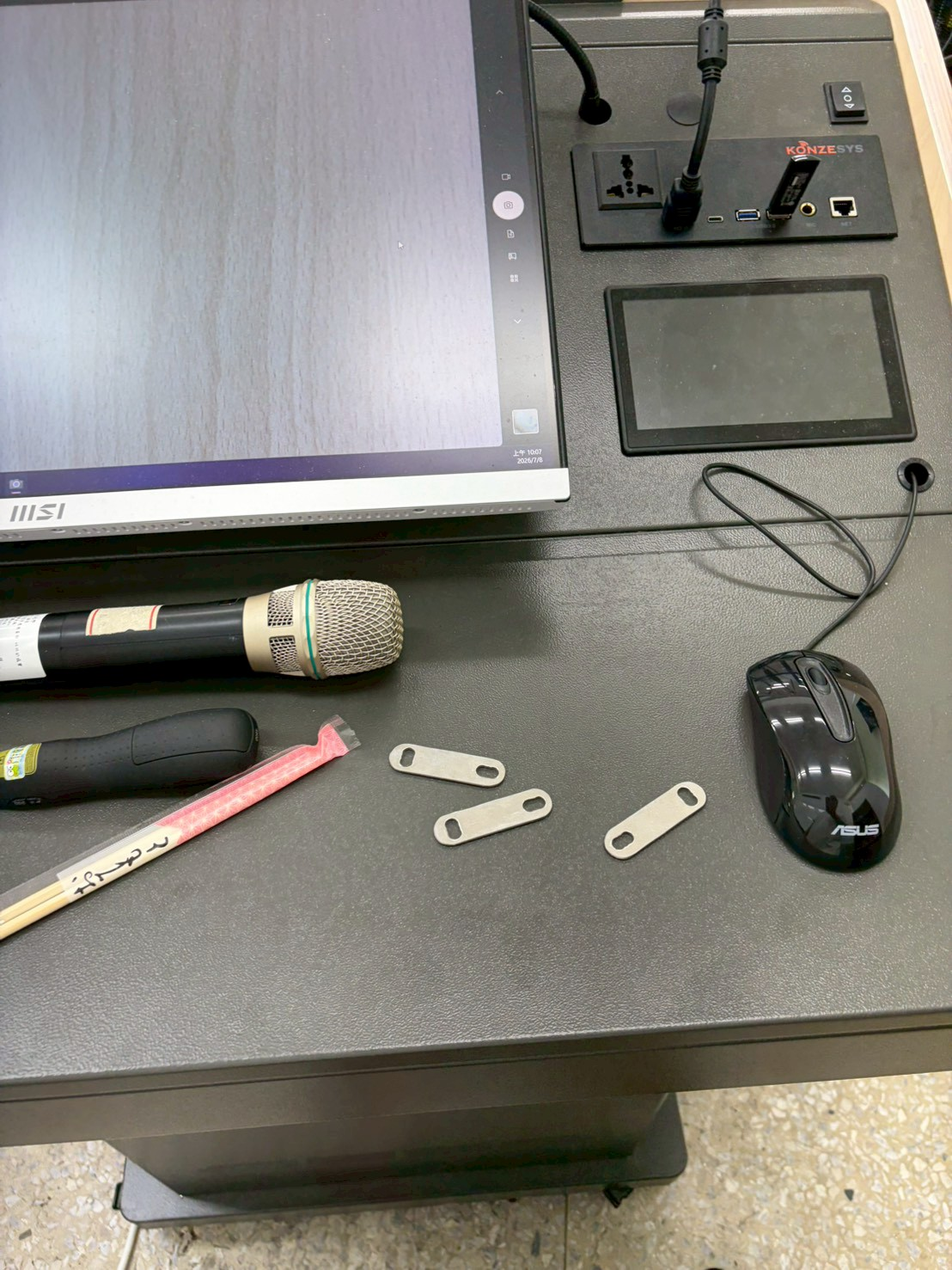Fe: (419, 788, 554, 850), (605, 786, 715, 854), (382, 730, 508, 788)
